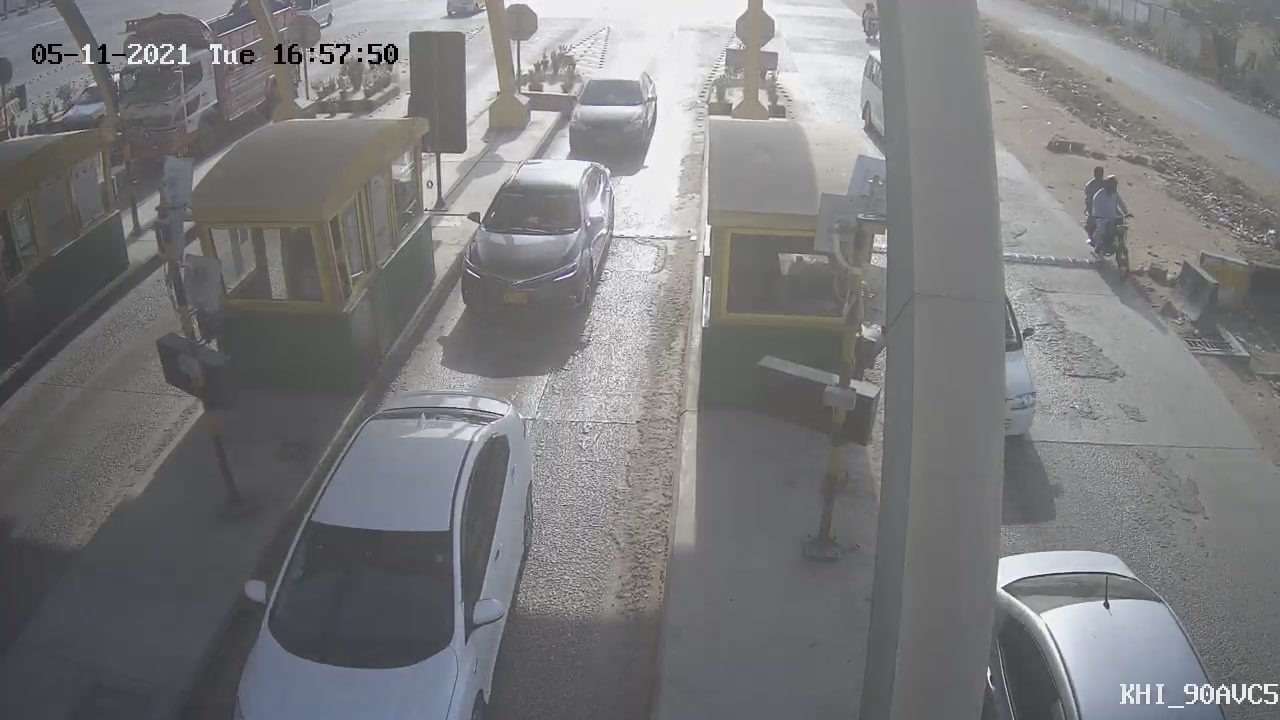F1: (443, 143, 635, 343), (548, 53, 674, 177)
